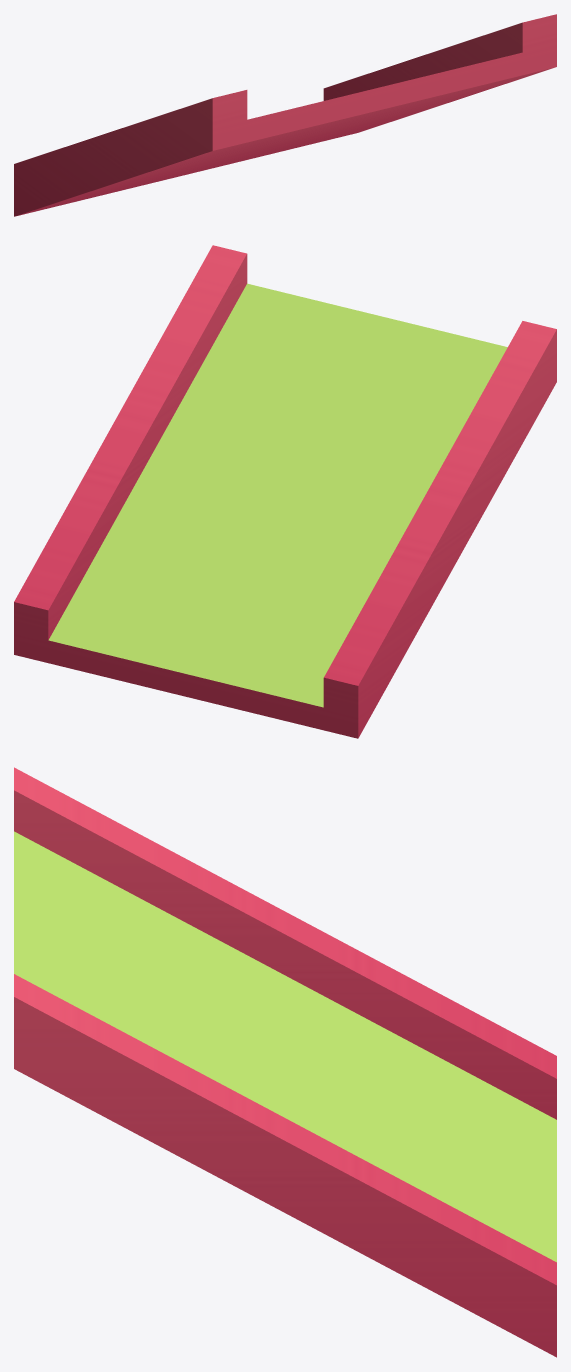
Rendered from ramp-d.gltf.
The picture shows the model from 3 angles, top to bottom: view 1: azimuth 30°, elevation 25°; view 2: azimuth 150°, elevation 25°; view 3: azimuth 270°, elevation 25°; orthographic projection. The views are drawn at different scales.
Parts seen in each view (by area): view 1: ramp-d; view 2: ramp-d; view 3: ramp-d.
Boxes of the visible parts, x1=… form: ramp-d: x1=14, y1=14, x2=556, y2=216; ramp-d: x1=14, y1=245, x2=556, y2=738; ramp-d: x1=14, y1=767, x2=556, y2=1357.
Bounding box in the file's own units: 0.9999 × 0.7333 × 0.9999.
Materials: 1 (1 with a texture image).
